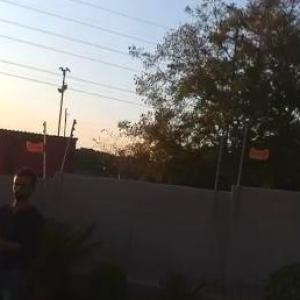follow: (0, 160, 49, 299)
